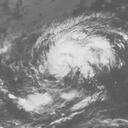cyclone: (32, 20, 119, 84)
